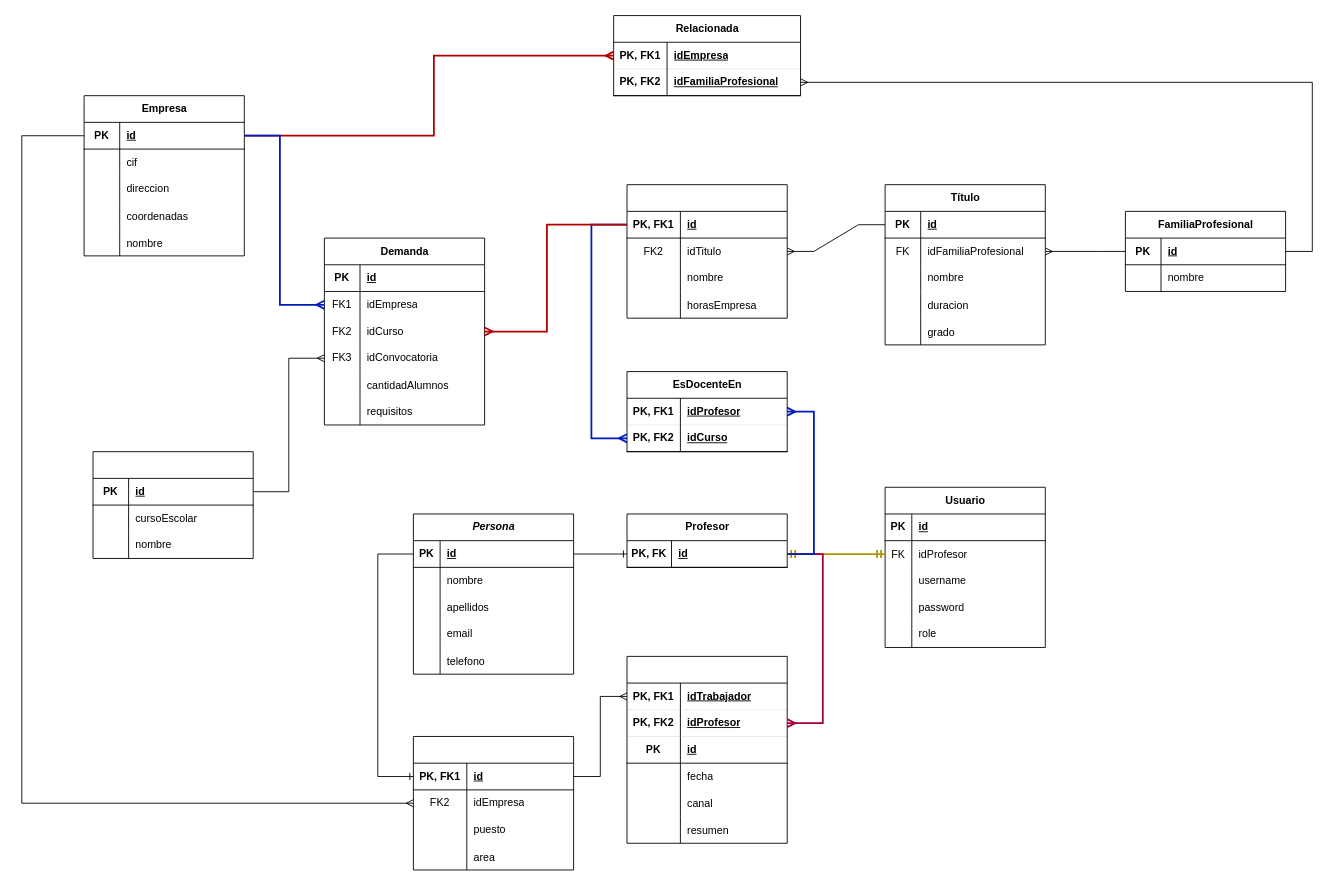
This 1335x886 diagram has some shape labels left out. The box of each missing label's shape, as (x1, y1, x2, y2) in pixels:
Contacto: (626, 655, 787, 843)
Convocatoria: (92, 451, 253, 558)
Curso: (626, 184, 787, 318)
Trabajador: (413, 736, 574, 870)
